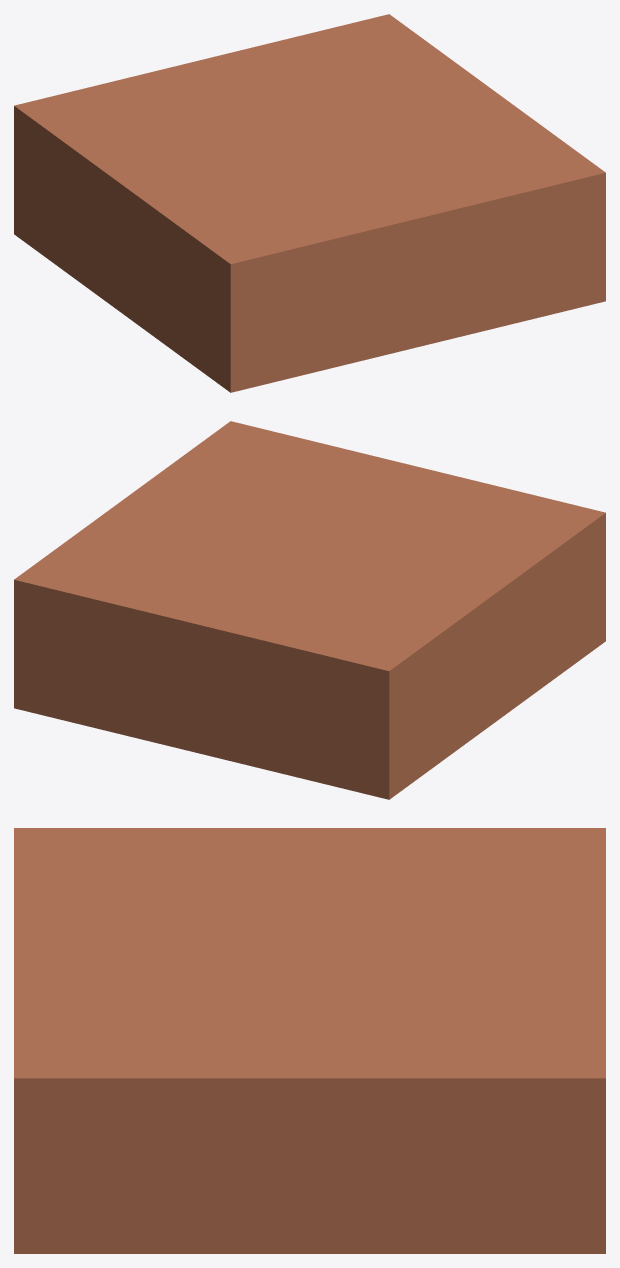
3 renders of one model, top to bottom at view 1: azimuth 30°, elevation 25°; view 2: azimuth 150°, elevation 25°; view 3: azimuth 270°, elevation 25°, orthographic. The views are drawn at different scales.
Parts seen in each view (by area): view 1: Plane.001_2; view 2: Plane.001_2; view 3: Plane.001_2.
Part boxes in pixels (x1,y1,x2,y2): Plane.001_2: (14,14,605,392); Plane.001_2: (14,421,605,799); Plane.001_2: (14,828,605,1253).
Bounding box in the file's own units: 15.19 × 5 × 15.19.
4 materials, 3 textured.
